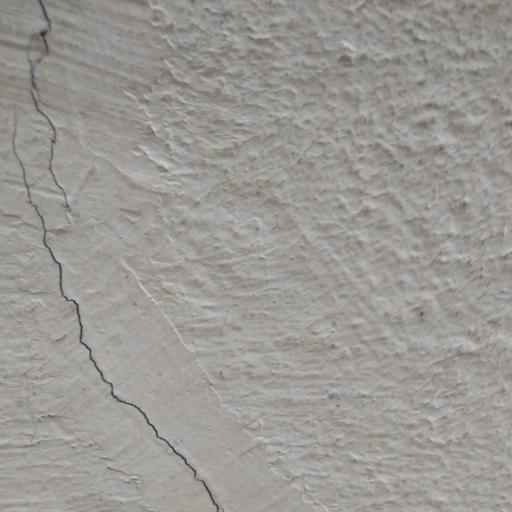minor_crack: (2, 108, 230, 512), (20, 0, 125, 234)
